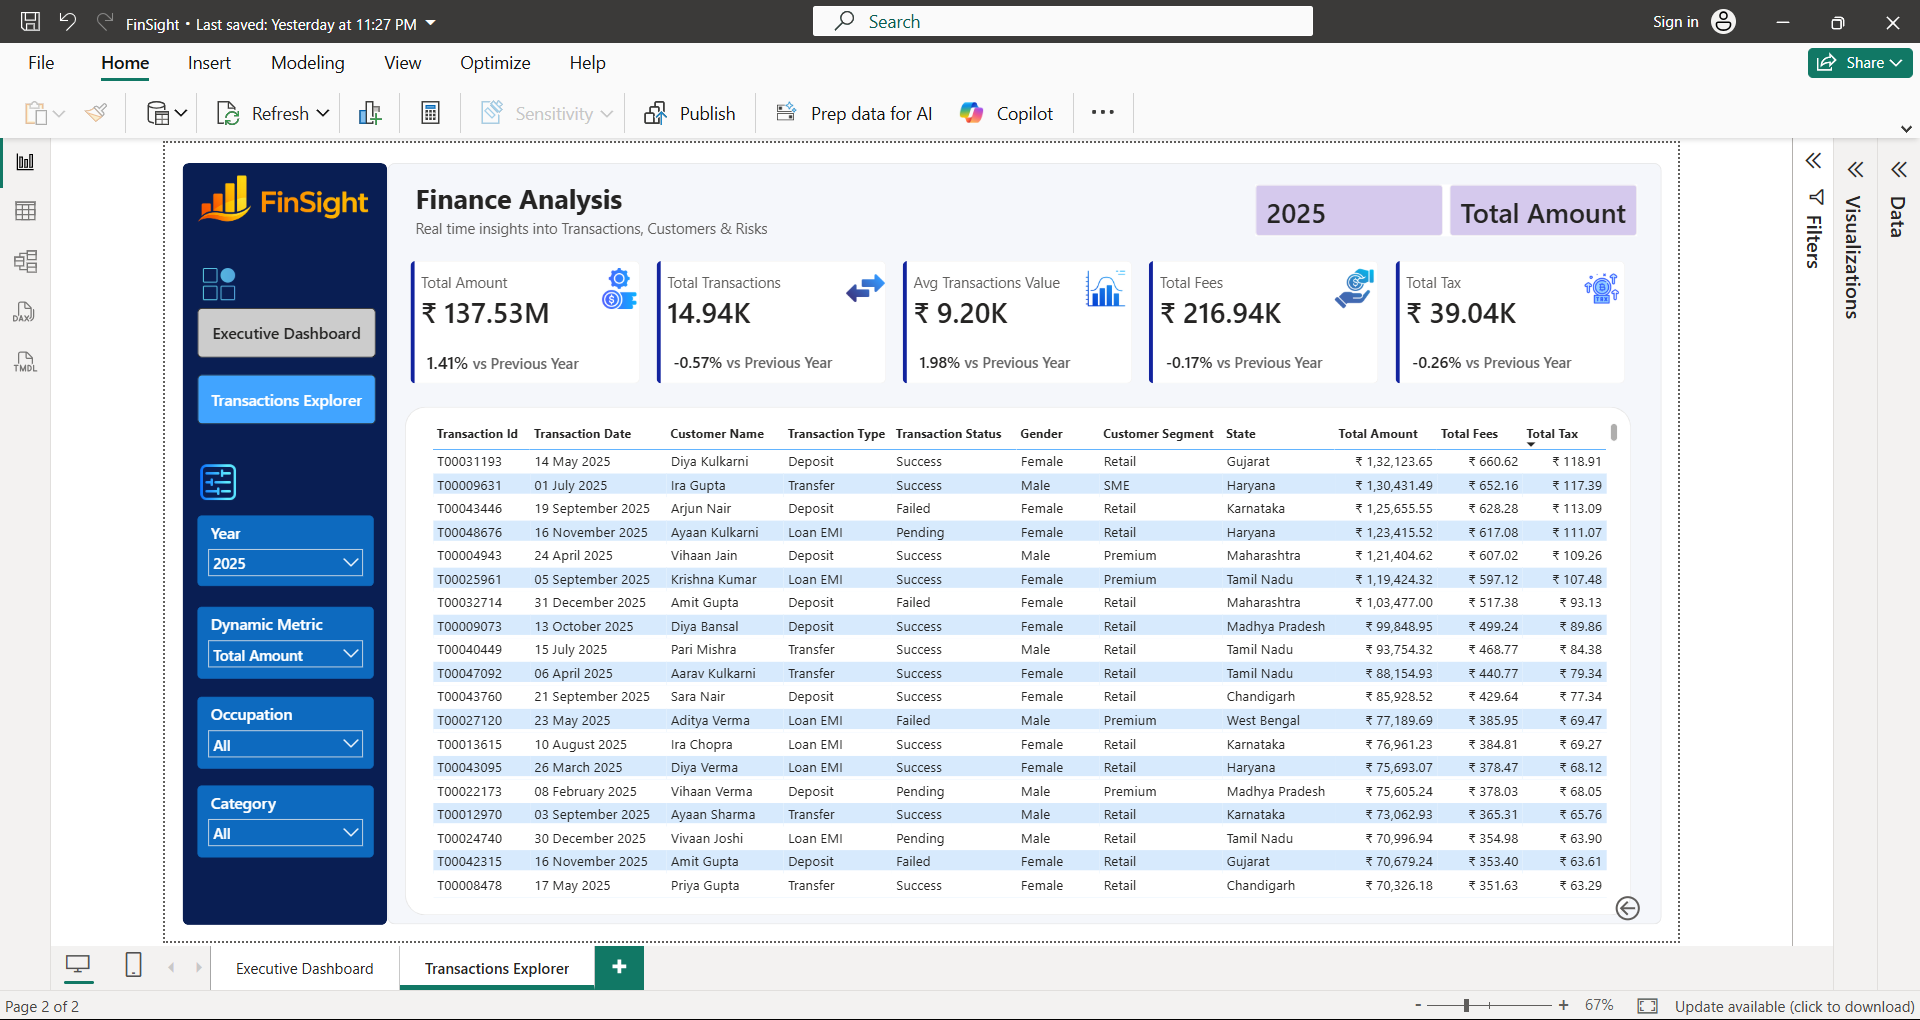

What the dashboard file says about the page in this screenshot:
{"tool":"powerbi","page":{"name":"Transactions Explorer","canvas":[1800,950],"ordinal":1},"visuals":[{"type":"shape","box":[264.9,24.5,1515.8,905.9],"z":1000},{"type":"cardVisual","fields":{"Data":["finance_transactions.Dashboard title"]},"box":[281.3,24.5,470.9,109.6],"z":3000},{"type":"cardVisual","fields":{"Data":["finance_transactions.Total Amt","finance_transactions.Total Transactions","finance_transactions.Avg Transactions Value","finance_transactions.Total Fees","finance_transactions.Total Tax"]},"box":[286.2,134.1,1458.8,158.2],"z":4000},{"type":"image","box":[516.7,148.8,49,49],"z":5000},{"type":"image","box":[809.4,148.8,49,48.2],"z":6000},{"type":"image","box":[1684.2,148.8,49,49],"z":7000},{"type":"image","box":[1093.9,148.8,49,49],"z":8000},{"type":"image","box":[1389.9,148.8,49,49],"z":9000},{"type":"shape","box":[286.2,314,1458.6,605],"z":10000},{"type":"cardVisual","fields":{"Data":["finance_transactions.Selected Year","finance_transactions.Selected Dynamic Measure"]},"box":[1292.9,44.4,465.1,71.4],"z":11000},{"type":"tableEx","fields":{"Values":["finance_transactions.transaction_id","finance_transactions.transaction_date","customers.Customer_Name","finance_transactions.transaction_type","finance_transactions.transaction_status","customers.gender","customers.customer_segment","customers.state","finance_transactions.Total Amount","finance_transactions.Total Fees","finance_transactions.Total Tax"]},"box":[312.3,328.7,1421,573.9],"z":12000},{"type":"actionButton","box":[1720.2,891.2,49.1,39.2],"z":13000},{"type":"shape","box":[21,24.2,243.6,906.8],"z":13001},{"type":"image","box":[30.7,25.8,223.8,83],"z":13002},{"type":"slicer","fields":{"Values":["Calendar Table.Year"]},"box":[39.4,442.7,209.7,83.9],"z":13003},{"type":"slicer","fields":{"Values":["Dynamic Metric.Dynamic Metric"]},"box":[39.4,552.4,209.7,85.5],"z":13004},{"type":"slicer","fields":{"Values":["customers.occupation"]},"box":[39.4,658.9,209.7,85.5],"z":13005},{"type":"slicer","fields":{"Values":["finance_transactions.merchant_category"]},"box":[39.4,763.8,209.7,85.5],"z":13006},{"type":"pageNavigator","box":[38.7,196.8,213,138.8],"z":13007},{"type":"image","box":[38.7,148.4,51.6,38.7],"z":13008},{"type":"image","box":[35.5,379.2,55.6,49.1],"z":13009}]}

Visuals, with their boxes on the page's 1800x950 design canvas (x1, y1, x2, y2). These are canvas units, not pixel positions in the 1920x1020 screenshot, which may show the page scaled, cropped or inside an application window:
shape: select_region(265, 24, 1781, 930)
cardVisual - finance_transactions.Dashboard title: select_region(281, 24, 752, 134)
cardVisual - finance_transactions.Total Amt x finance_transactions.Total Transactions: select_region(286, 134, 1745, 292)
image: select_region(517, 149, 566, 198)
image: select_region(809, 149, 858, 197)
image: select_region(1684, 149, 1733, 198)
image: select_region(1094, 149, 1143, 198)
image: select_region(1390, 149, 1439, 198)
shape: select_region(286, 314, 1745, 919)
cardVisual - finance_transactions.Selected Year x finance_transactions.Selected Dynamic Measure: select_region(1293, 44, 1758, 116)
tableEx - finance_transactions.transaction_id x finance_transactions.transaction_date: select_region(312, 329, 1733, 903)
actionButton: select_region(1720, 891, 1769, 930)
shape: select_region(21, 24, 265, 931)
image: select_region(31, 26, 254, 109)
slicer - Calendar Table.Year: select_region(39, 443, 249, 527)
slicer - Dynamic Metric.Dynamic Metric: select_region(39, 552, 249, 638)
slicer - customers.occupation: select_region(39, 659, 249, 744)
slicer - finance_transactions.merchant_category: select_region(39, 764, 249, 849)
pageNavigator: select_region(39, 197, 252, 336)
image: select_region(39, 148, 90, 187)
image: select_region(36, 379, 91, 428)
